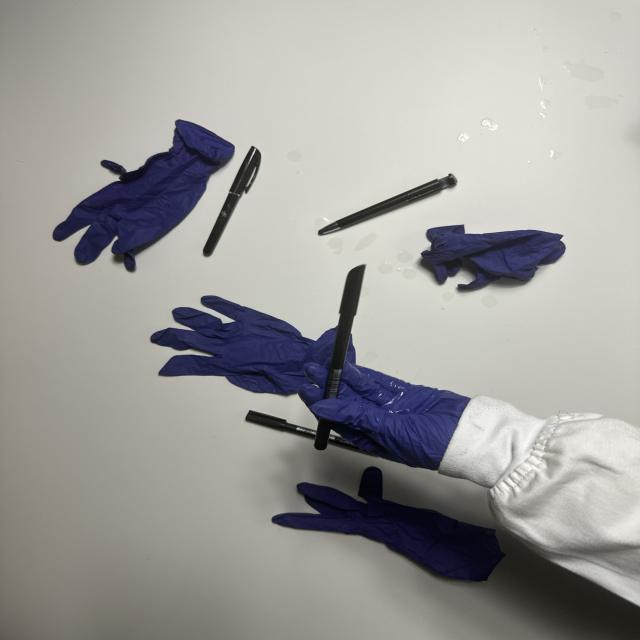gloves_contaminated: (299, 363, 470, 470)
